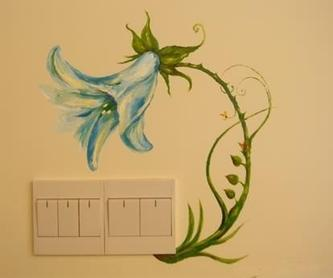switch: (140, 198, 172, 236), (107, 198, 139, 234), (80, 197, 101, 237), (58, 199, 80, 237), (36, 199, 57, 236)
